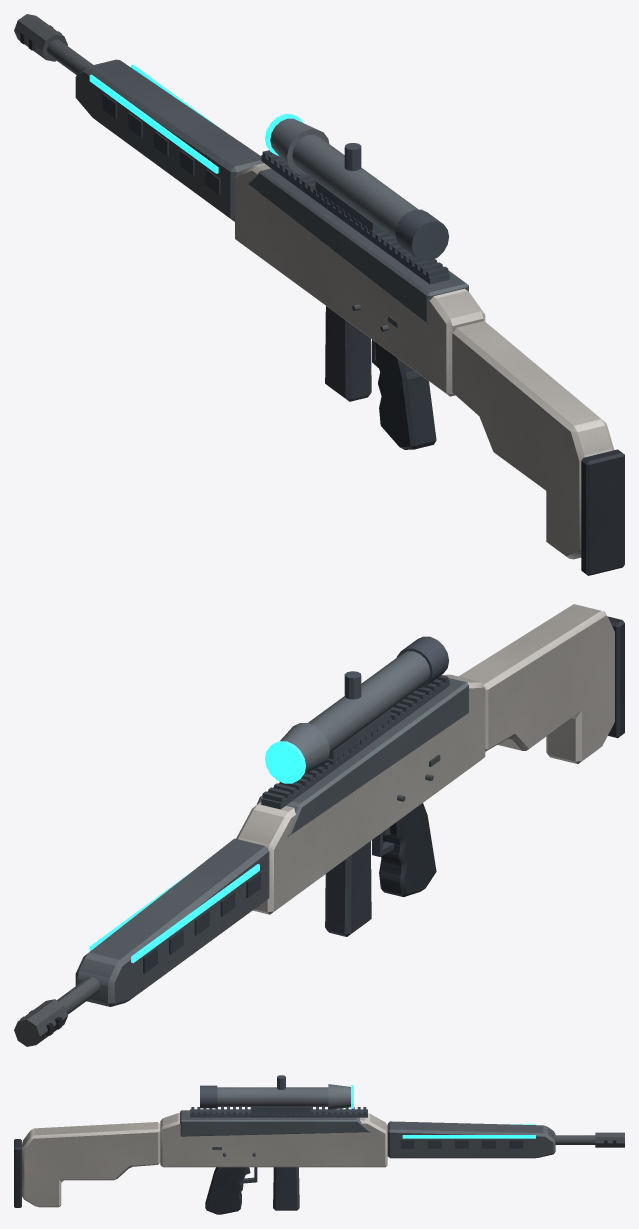
The picture shows the model from 3 angles, top to bottom: view 1: azimuth 30°, elevation 25°; view 2: azimuth 150°, elevation 25°; view 3: azimuth 270°, elevation 25°; orthographic projection. The views are drawn at different scales.
Parts seen in each view (by area): view 1: ts51-marksman_gun, ts51-marksman_gunGrip, ts51-marksman_steel, ts51-marksman_glow; view 2: ts51-marksman_gun, ts51-marksman_gunGrip, ts51-marksman_glow, ts51-marksman_steel; view 3: ts51-marksman_gun, ts51-marksman_gunGrip, ts51-marksman_steel, ts51-marksman_glow.
Boxes of the visible parts, x1,y1,x2,y2 form: ts51-marksman_gun: (20,25,614,559); ts51-marksman_gunGrip: (325,306,624,575); ts51-marksman_steel: (14,14,399,331); ts51-marksman_glow: (89,64,303,173); ts51-marksman_gun: (20,604,614,1035); ts51-marksman_gunGrip: (325,616,624,936); ts51-marksman_glow: (89,741,305,963); ts51-marksman_steel: (14,754,440,1046); ts51-marksman_gun: (22,1075,616,1207); ts51-marksman_gunGrip: (14,1139,299,1214); ts51-marksman_steel: (212,1132,624,1156); ts51-marksman_glow: (351,1085,535,1138).
Bounding box in the file's own units: 0.062 × 0.3021 × 1.24.
Materials: 4 (3 with a texture image).
